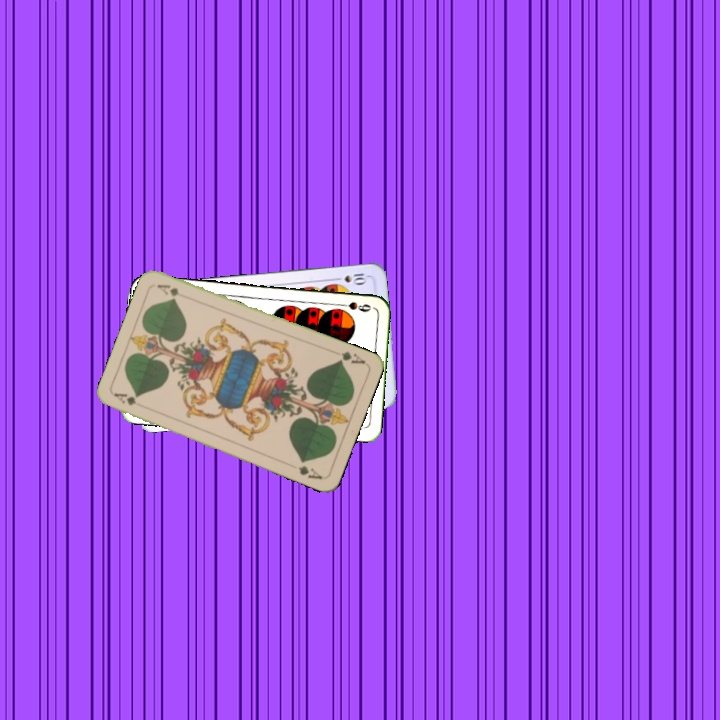GA: (110, 389, 149, 411), (335, 347, 368, 367)
S10: (329, 269, 369, 286)
S9: (334, 297, 374, 314)
